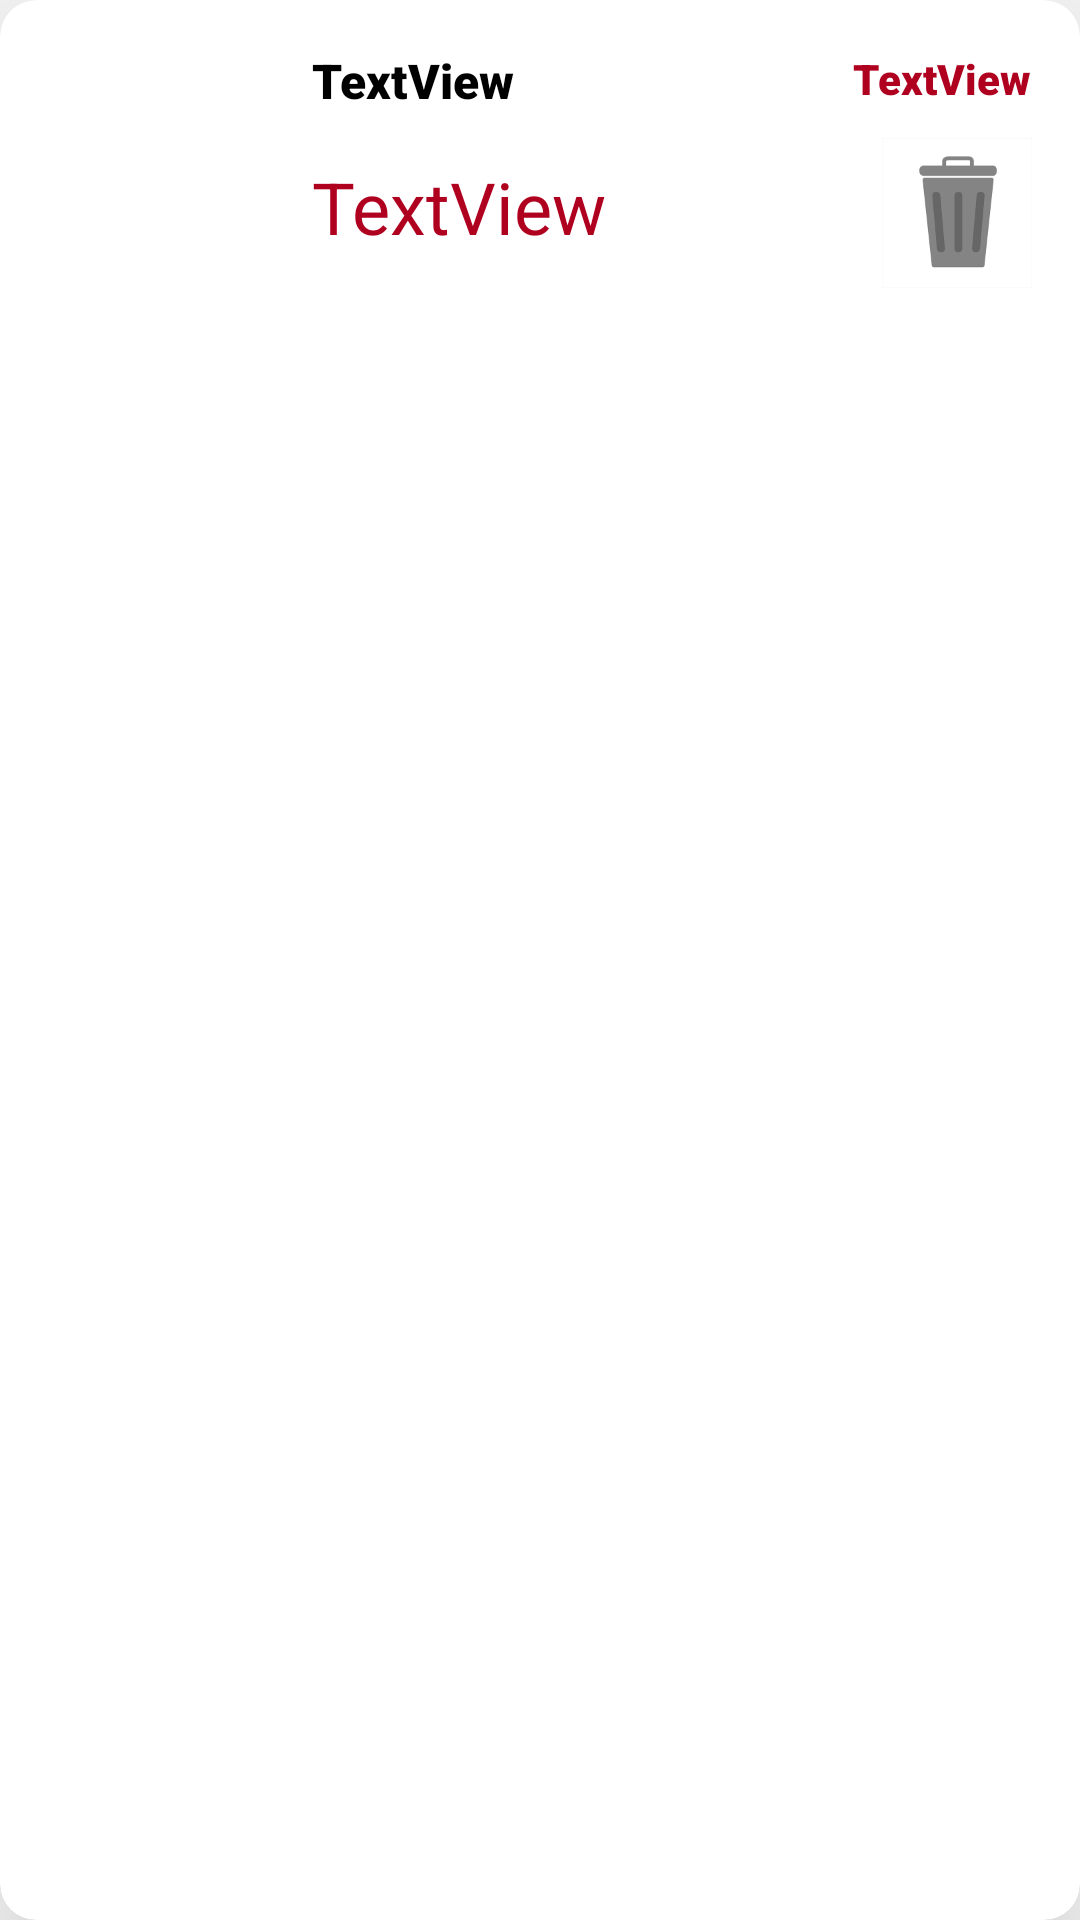

Icon click points for this 1080 × 1920 phone screenshot, format [x,y]:
trash: [958,212]
